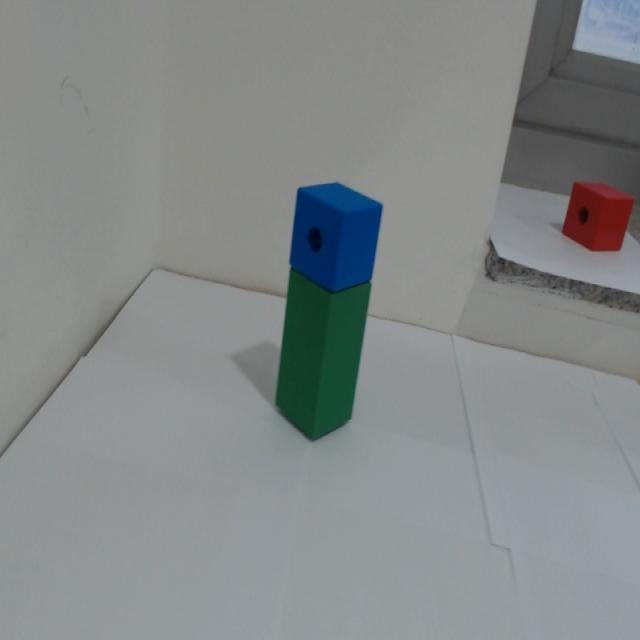cube: (270, 157, 413, 297)
